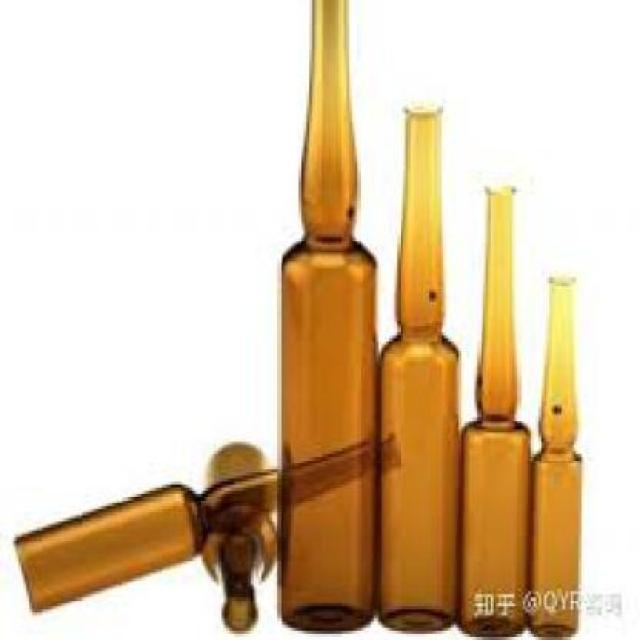kaca: (11, 431, 394, 611), (280, 0, 375, 631), (377, 106, 457, 631), (461, 183, 534, 634), (524, 274, 582, 637), (200, 442, 275, 630)
